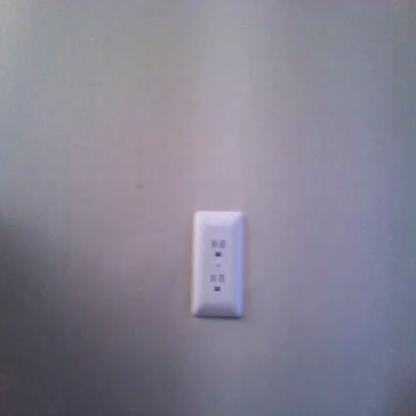OUTLET: (190, 211, 245, 317)
